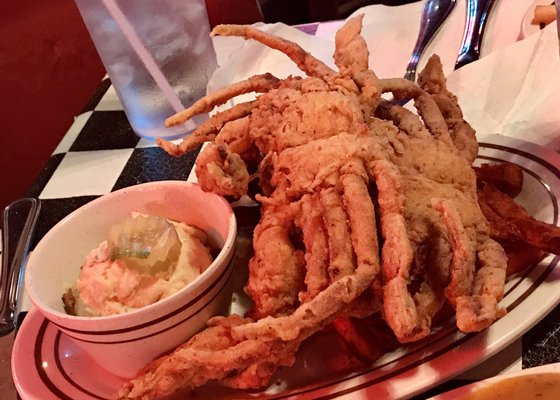sandwich: (0, 72, 112, 334)
sushi: (24, 180, 238, 391)
